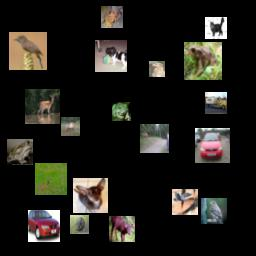airplane: (172, 189, 198, 215)
automobile: (195, 128, 230, 163), (28, 210, 60, 242)
bird: (9, 32, 47, 70), (201, 198, 227, 224), (70, 215, 89, 234)
cat: (205, 17, 227, 39)
deer: (25, 89, 60, 124), (35, 163, 67, 195), (140, 124, 169, 153), (109, 216, 135, 242), (61, 117, 80, 136)
dog: (73, 178, 108, 213), (95, 40, 127, 72), (149, 61, 165, 77)
frog: (184, 42, 222, 80), (7, 139, 33, 165), (101, 6, 123, 28), (112, 102, 131, 121)
truck: (205, 92, 227, 114)
